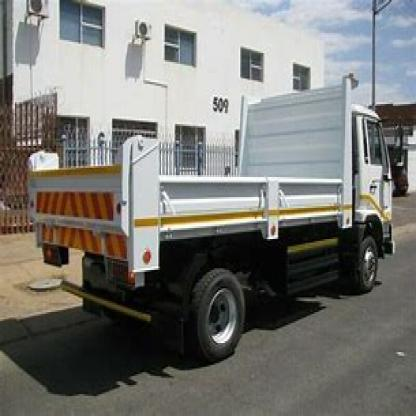dump_truck: (24, 82, 410, 365)
